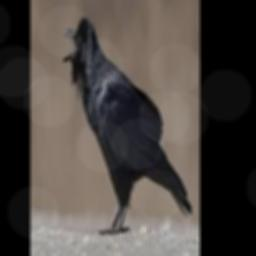Crow: (62, 16, 192, 234)
